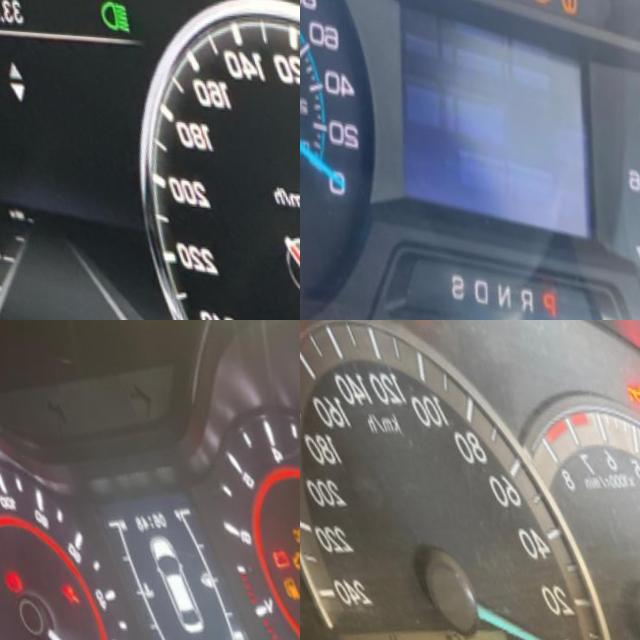Low beam: (88, 0, 129, 36)
Low fuel level: (265, 566, 293, 598)
